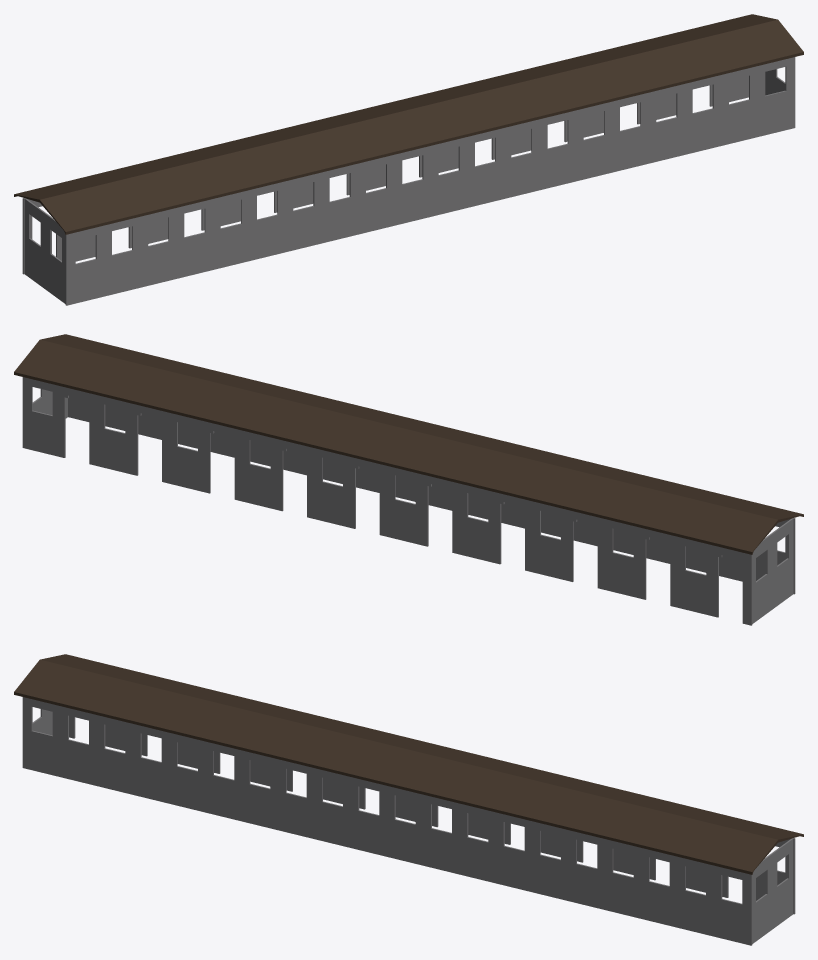
3 renders of one model, top to bottom at view 1: azimuth 30°, elevation 25°; view 2: azimuth 150°, elevation 25°; view 3: azimuth 330°, elevation 25°, orthographic.
Visible parts, largest first — view 1: carriage_shell; view 2: carriage_shell; view 3: carriage_shell.
Boxes of the visible parts, x1,y1,x2,y2 form: carriage_shell: (14,14,803,305); carriage_shell: (14,334,803,625); carriage_shell: (14,654,803,945).
Bounding box in the file's own units: 30 × 3.54 × 3.64.
